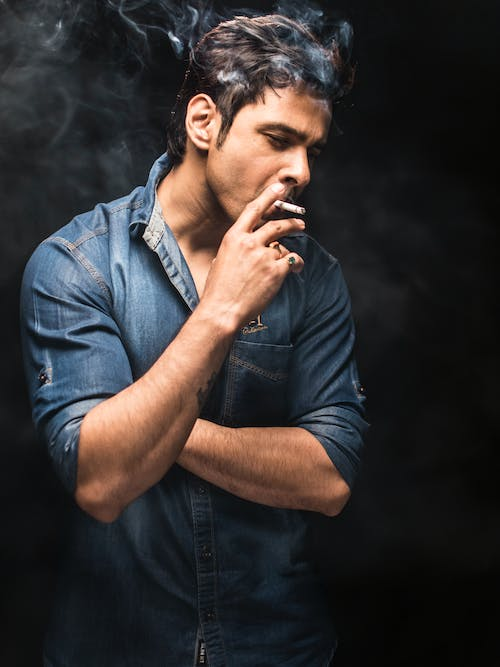cigarette: (273, 196, 309, 216)
